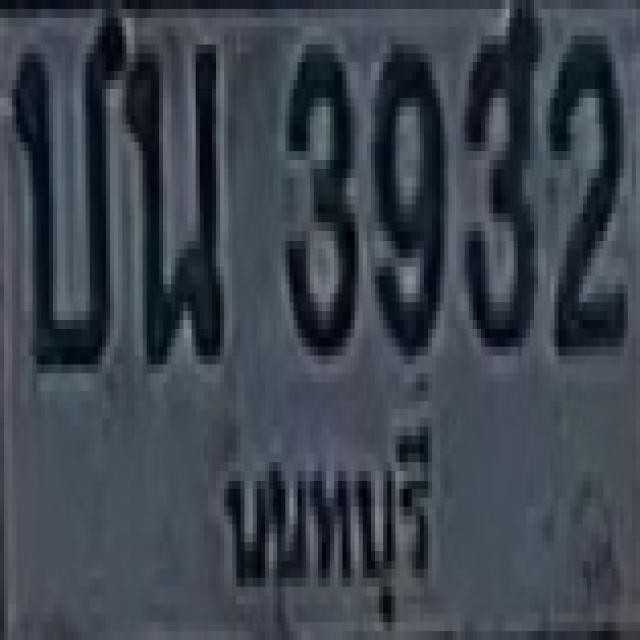-: (8, 13, 114, 369), (124, 31, 218, 360)
2: (546, 26, 620, 346)
3: (461, 5, 538, 342), (281, 36, 355, 347)
9: (371, 36, 440, 347)
NBI: (206, 397, 449, 640)
